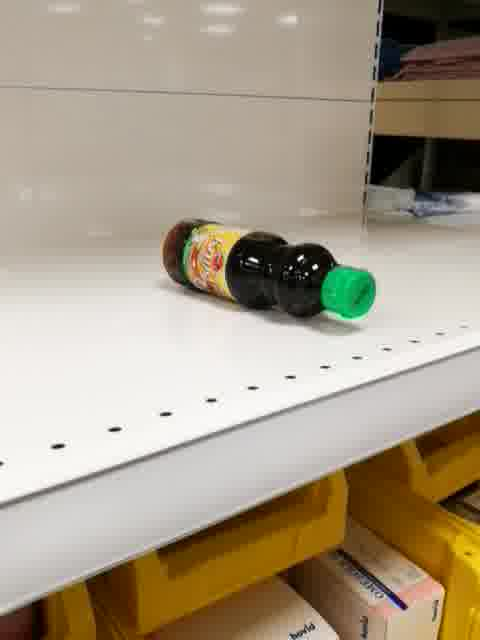cookingoil: (160, 215, 378, 322)
